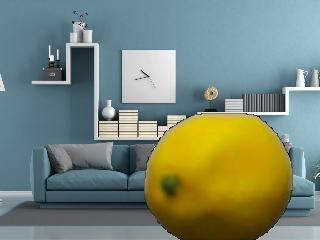lemon: (144, 113, 292, 240)
